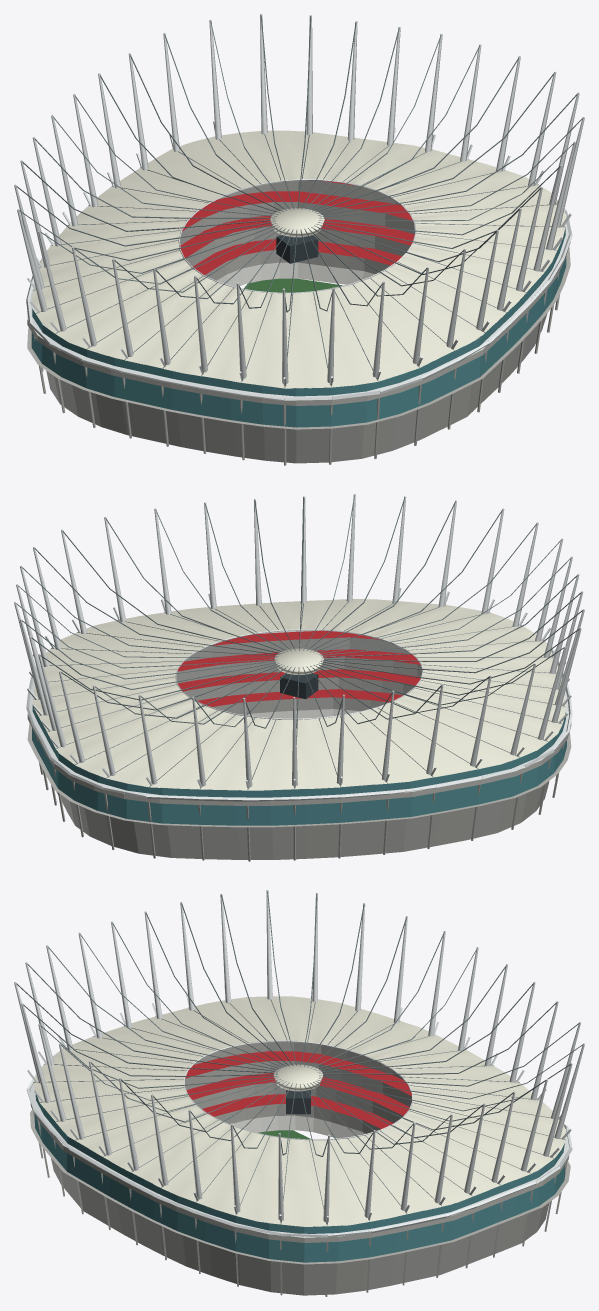
File: bc-place-far.glb
3 renders of one model, top to bottom at view 1: azimuth 30°, elevation 25°; view 2: azimuth 150°, elevation 25°; view 3: azimuth 270°, elevation 25°, orthographic. The views are drawn at different scales.
Parts seen in each view (by area): view 1: bc-place-0-roof, bc-place-0-concrete, bc-place-0-steel, bc-place-0-cable, bc-place-0-glow, bc-place-0-seats, bc-place-0-field, bc-place-0-shadow; view 2: bc-place-0-roof, bc-place-0-concrete, bc-place-0-steel, bc-place-0-cable, bc-place-0-glow, bc-place-0-seats, bc-place-0-shadow; view 3: bc-place-0-roof, bc-place-0-concrete, bc-place-0-steel, bc-place-0-glow, bc-place-0-cable, bc-place-0-seats, bc-place-0-shadow.
Boxes of the visible parts, x1=… form: bc-place-0-roof: x1=31, y1=130, x2=566, y2=388; bc-place-0-concrete: x1=27, y1=180, x2=570, y2=465; bc-place-0-steel: x1=14, y1=14, x2=584, y2=400; bc-place-0-cable: x1=15, y1=15, x2=583, y2=387; bc-place-0-glow: x1=31, y1=228, x2=566, y2=427; bc-place-0-seats: x1=180, y1=181, x2=414, y2=275; bc-place-0-field: x1=244, y1=278, x2=342, y2=292; bc-place-0-shadow: x1=276, y1=235, x2=318, y2=263; bc-place-0-roof: x1=33, y1=599, x2=565, y2=790; bc-place-0-concrete: x1=27, y1=630, x2=571, y2=861; bc-place-0-steel: x1=14, y1=494, x2=584, y2=801; bc-place-0-cable: x1=16, y1=494, x2=582, y2=789; bc-place-0-glow: x1=32, y1=705, x2=566, y2=825; bc-place-0-seats: x1=177, y1=630, x2=420, y2=706; bc-place-0-shadow: x1=280, y1=673, x2=318, y2=699; bc-place-0-roof: x1=33, y1=996, x2=565, y2=1226; bc-place-0-concrete: x1=30, y1=1042, x2=570, y2=1296; bc-place-0-steel: x1=14, y1=890, x2=584, y2=1237; bc-place-0-glow: x1=34, y1=1094, x2=565, y2=1262; bc-place-0-cable: x1=16, y1=891, x2=582, y2=1225; bc-place-0-seats: x1=185, y1=1051, x2=411, y2=1128; bc-place-0-shadow: x1=286, y1=1090, x2=310, y2=1114.
Size of the model in its own units: 233 by 77.65 by 229.
